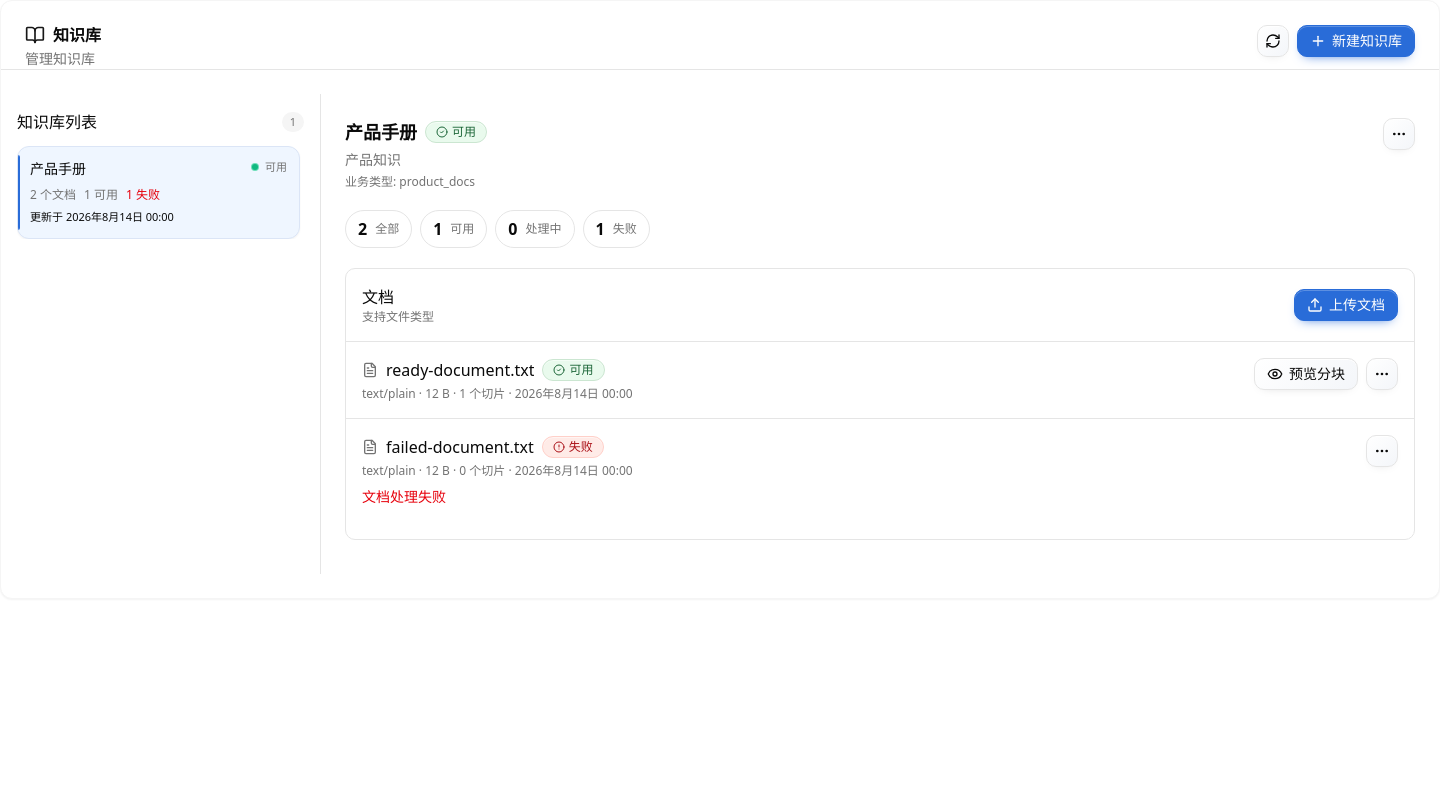
Test: KnowledgeBaseManager › 文档重试确认取消后回对应文档菜单按钮且不创建任务
Click the button named "管理文档 failed-document.txt": (1382,451) top-left (1366, 435), bottom-right (1398, 467)
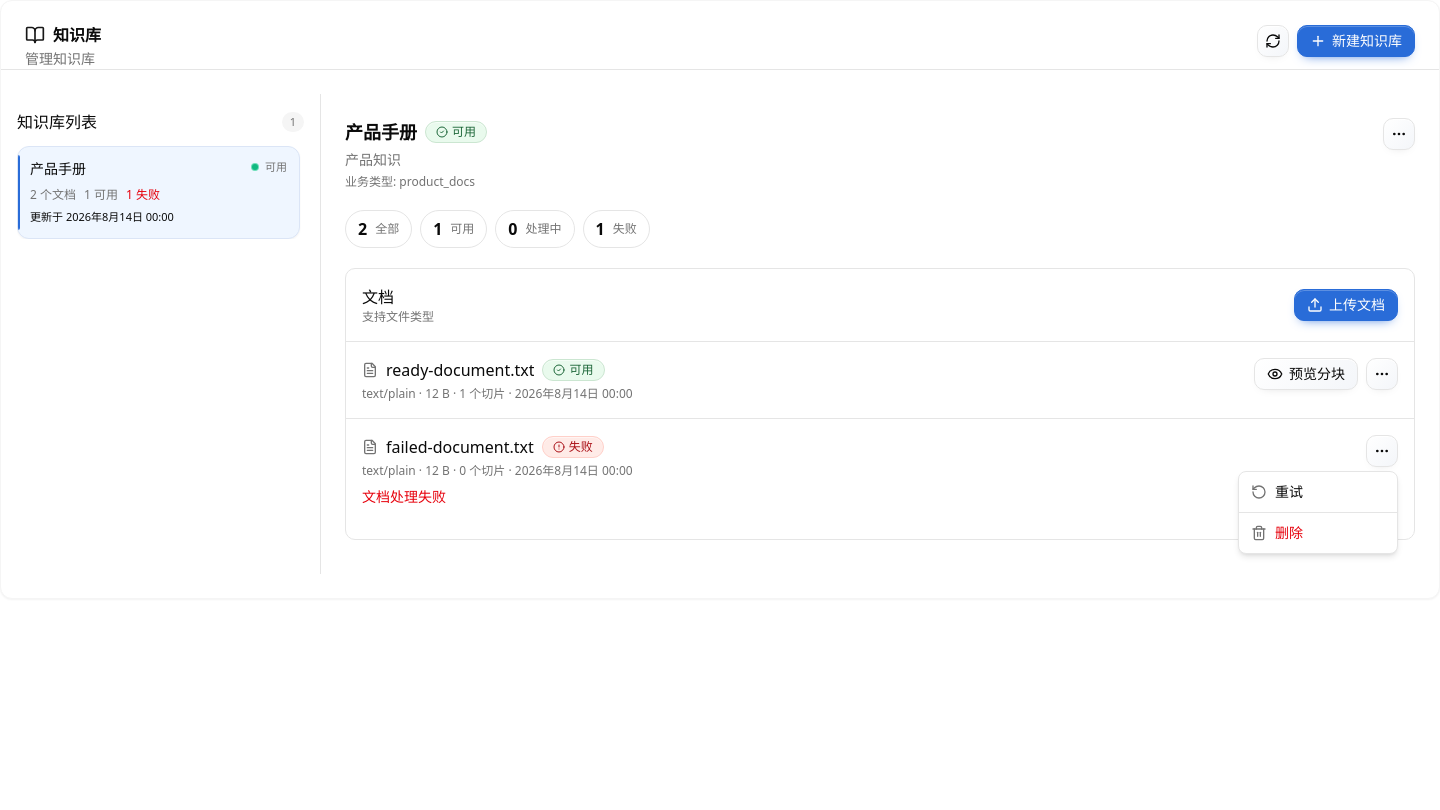
Click the menu item "重试": (1277,492) top-left (1251, 482), bottom-right (1303, 501)
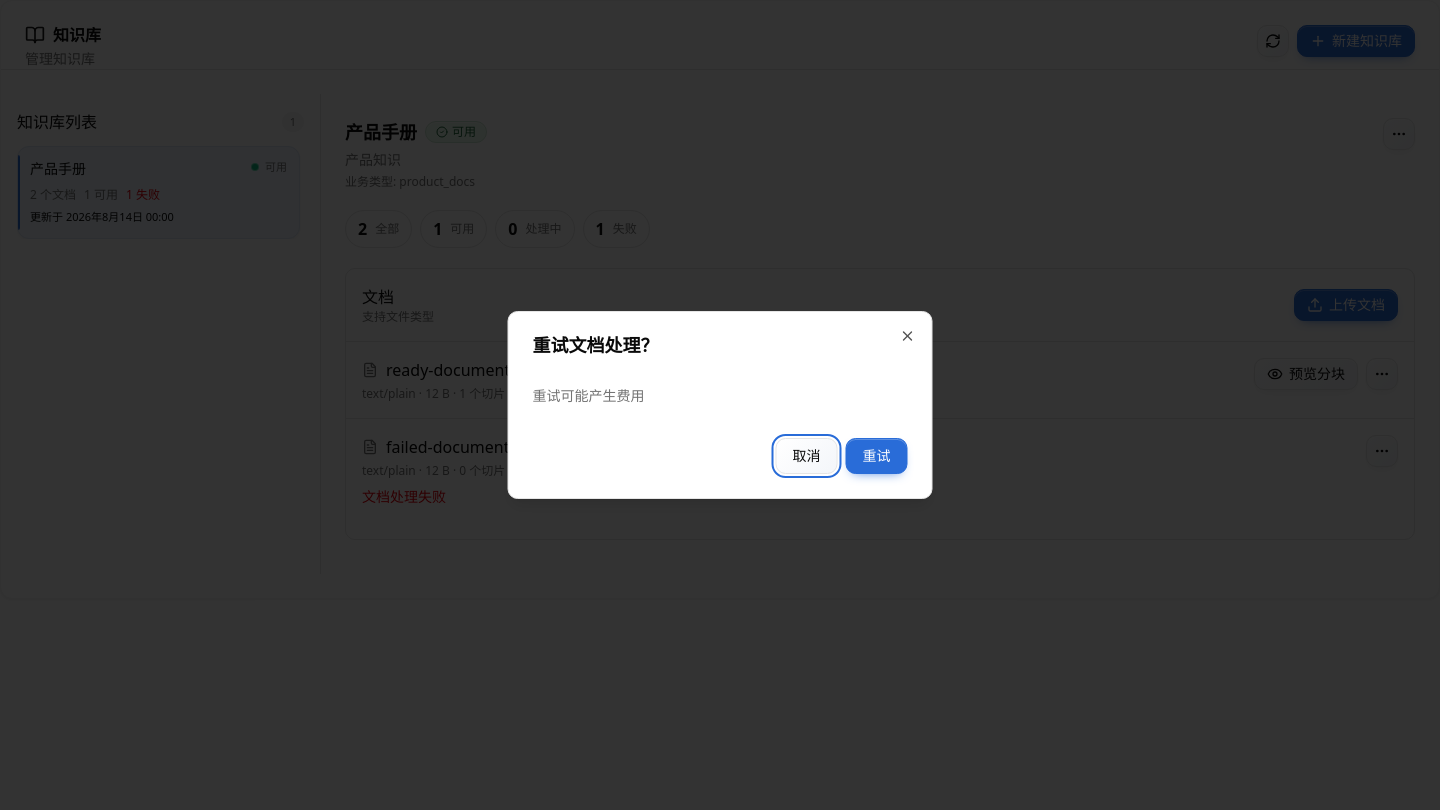
Click the button "取消": (806,456) top-left (776, 438), bottom-right (838, 474)
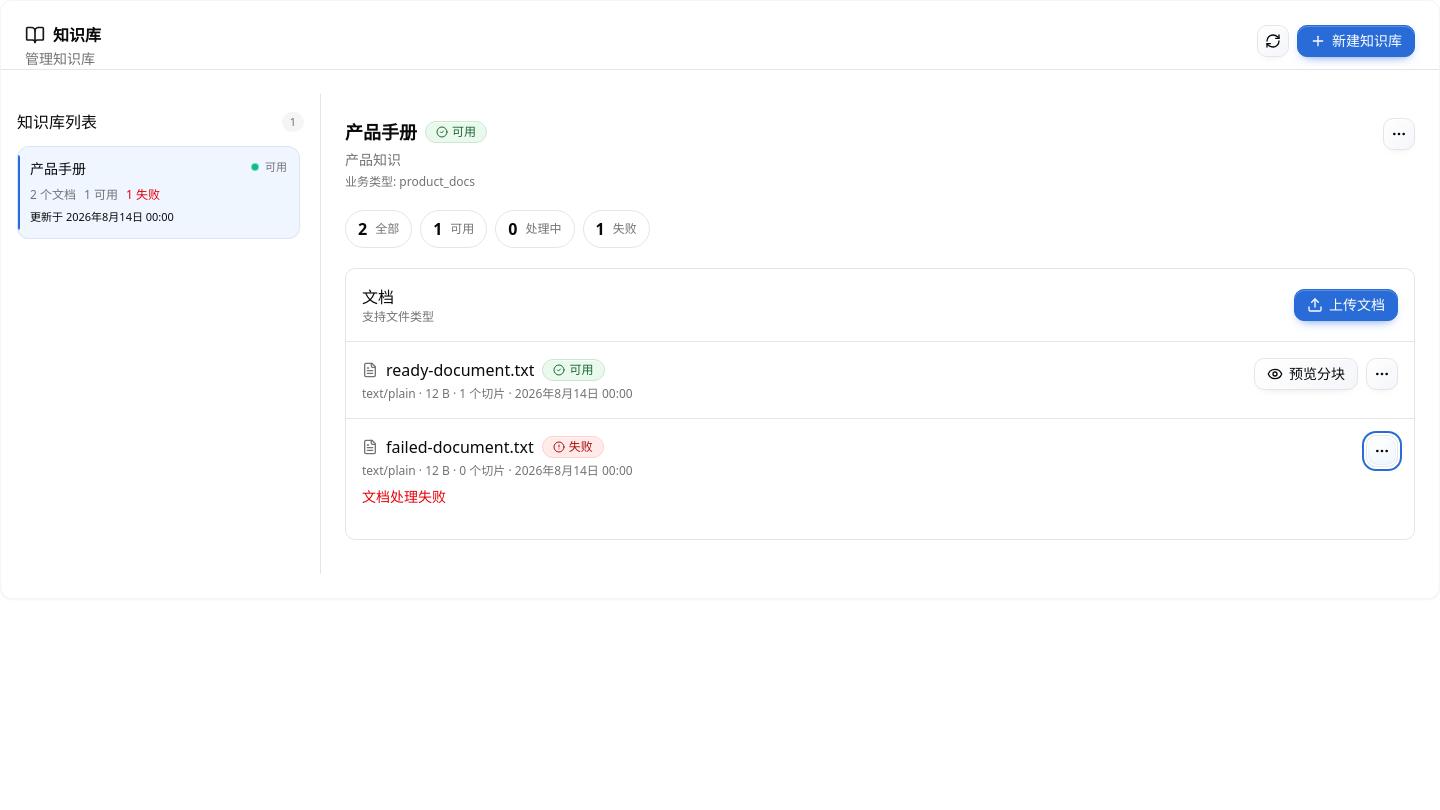
Result: the dialog is gone
